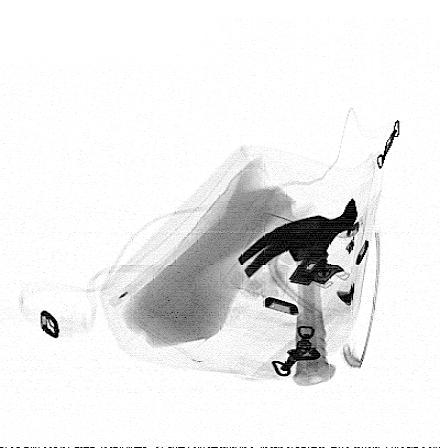Hammer: (237, 197, 358, 387)
